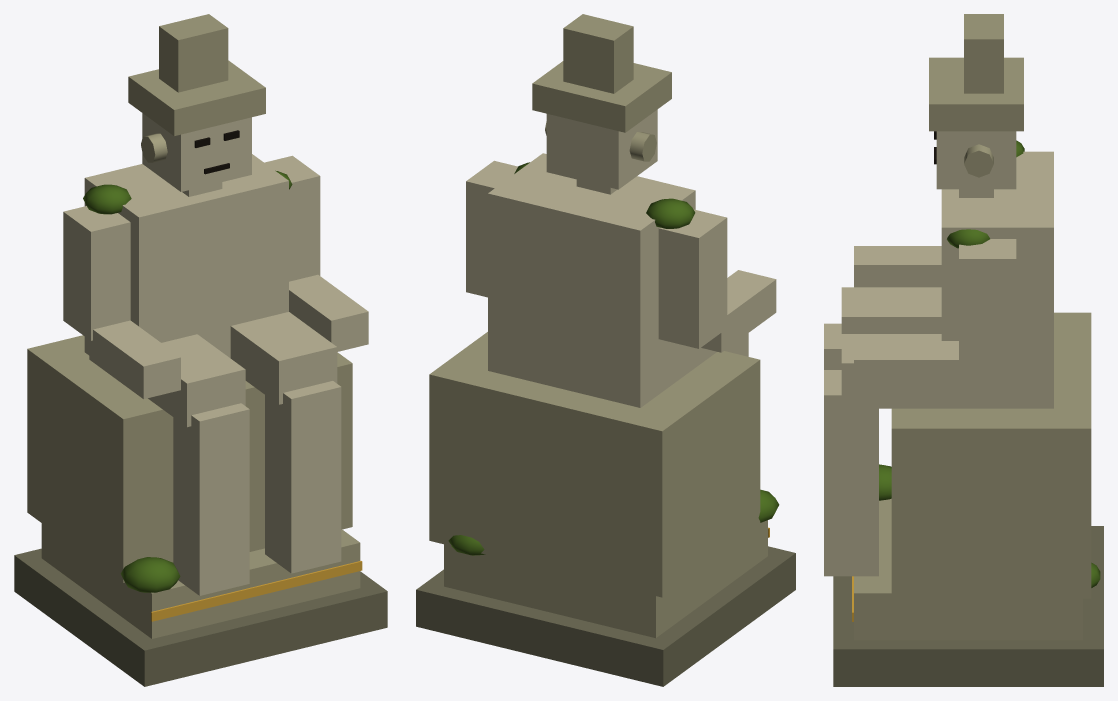
File: jt_statue_large.glb
3 renders of one model, left to right at view 1: azimuth 30°, elevation 25°; view 2: azimuth 150°, elevation 25°; view 3: azimuth 270°, elevation 25°, orthographic. The views are drawn at different scales.
Visible parts, largest first — view 1: jt_statue_large; view 2: jt_statue_large; view 3: jt_statue_large.
Part boxes in pixels (bbox=[...]): jt_statue_large: bbox=[14, 14, 387, 686]; jt_statue_large: bbox=[416, 14, 795, 686]; jt_statue_large: bbox=[824, 14, 1103, 686].
Size of the model in its own units: 2.8 by 6.35 by 2.69.
